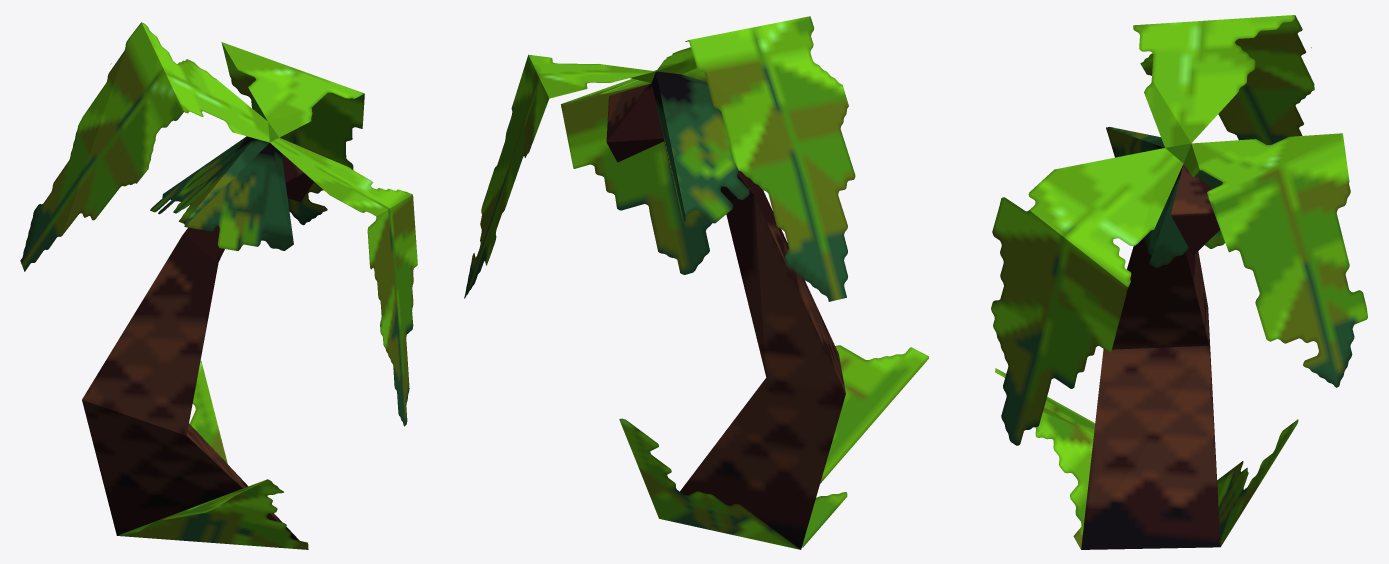
Rendered from palm_2.obj.
3 renders of one model, left to right at view 1: azimuth 30°, elevation 25°; view 2: azimuth 150°, elevation 25°; view 3: azimuth 270°, elevation 25°, orthographic. The views are drawn at different scales.
Parts seen in each view (by area): view 1: palm_2; view 2: palm_2; view 3: palm_2.
Part boxes in pixels (x1,y1,x2,y2): palm_2: (20, 22, 417, 549); palm_2: (464, 16, 928, 549); palm_2: (991, 15, 1367, 549).
Size of the model in its own units: 1.62 by 2.04 by 1.43.
1 material, 1 textured.
